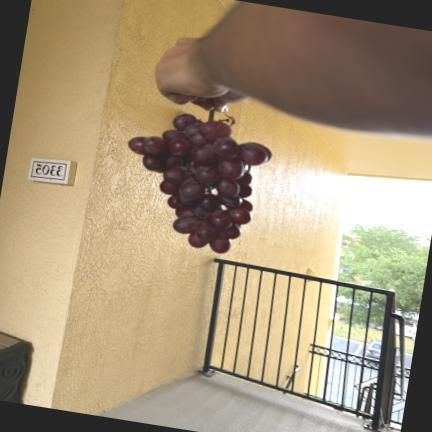grape_cluster: (128, 111, 272, 254)
